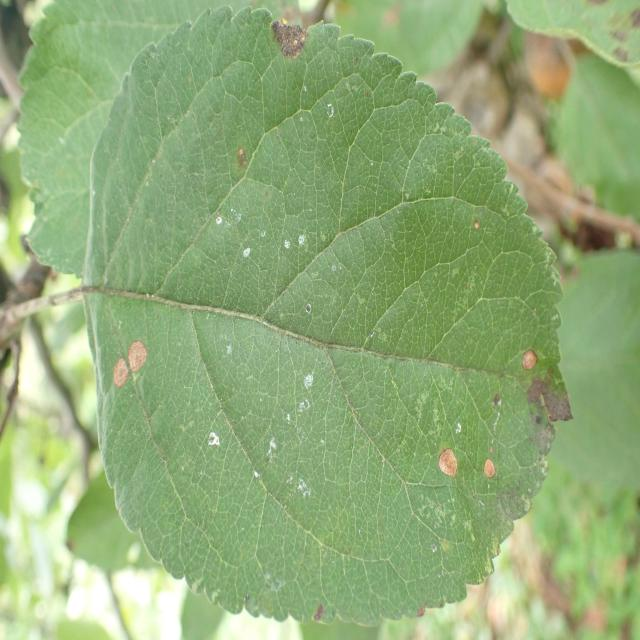frog-eye-leaf-spot: (81, 6, 574, 631)
